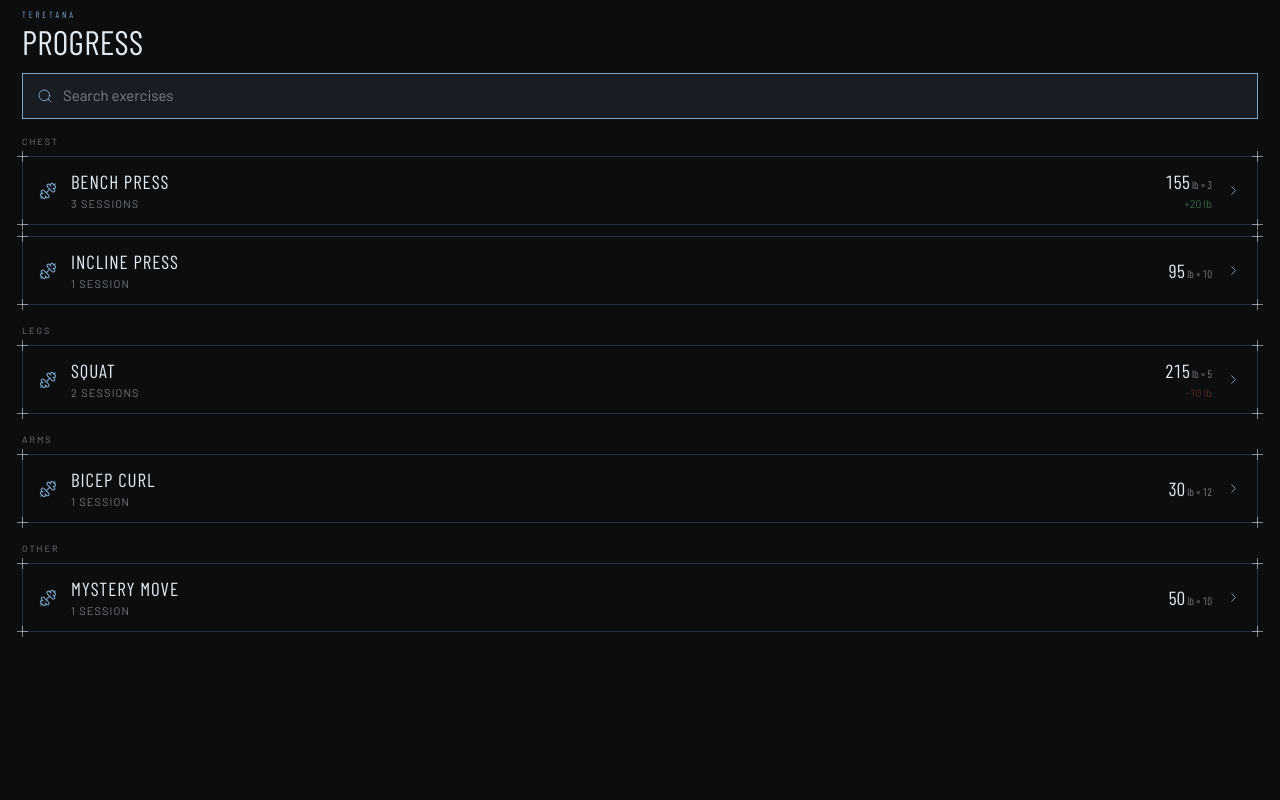
Test: ProgressTab › search › says when nothing matches
Type " deadlift " into the field with placeholder "Search exercises" at (653, 96), box left=63, top=84, right=1243, bottom=108
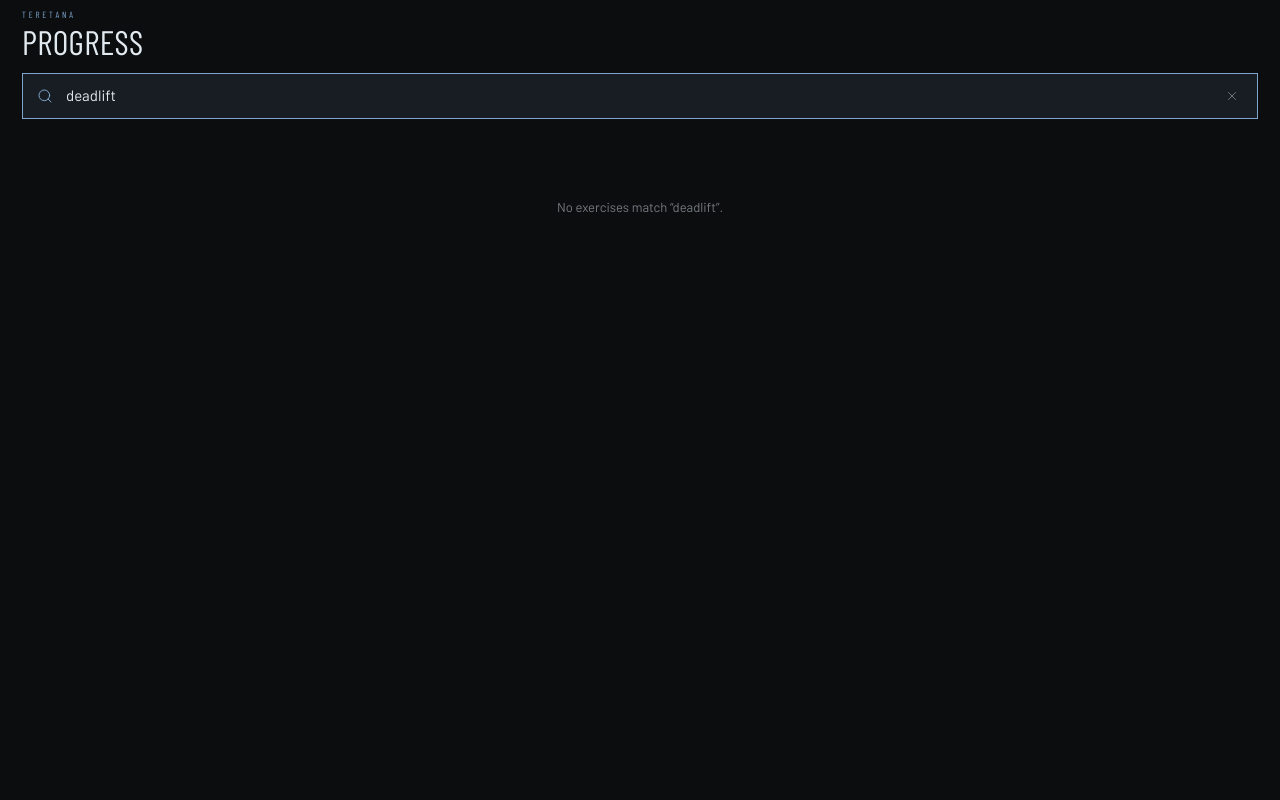
expect the text "No exercises match “deadlift”." is shown: met, box left=557, top=199, right=723, bottom=215
